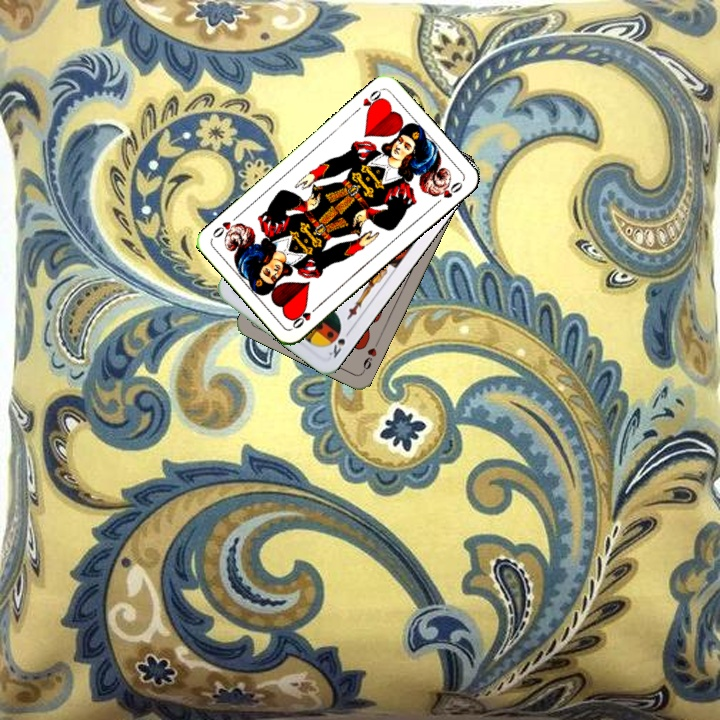H9: (358, 337, 381, 375)
HO: (350, 85, 386, 116), (288, 301, 322, 331)
SK: (324, 325, 354, 361)
